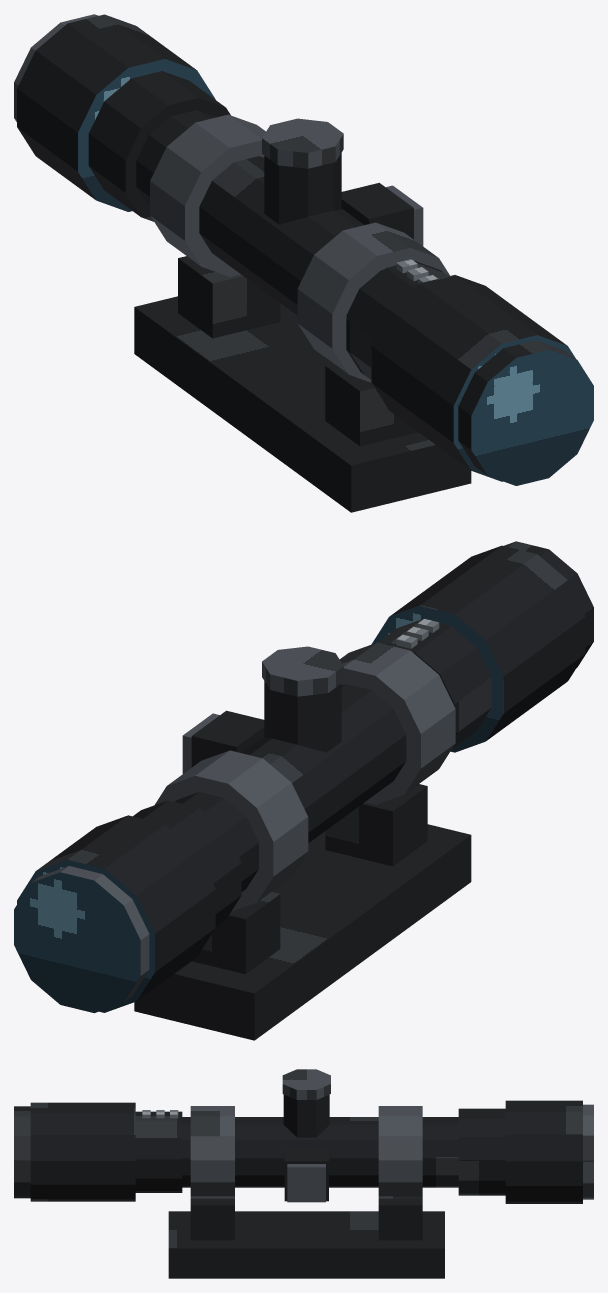
File: att_scope_4x.glb
3 views of the same model, one above another, from view 1: azimuth 30°, elevation 25°; view 2: azimuth 150°, elevation 25°; view 3: azimuth 270°, elevation 25° (orthographic). The views are drawn at different scales.
Parts seen in each view (by area): view 1: Body; view 2: Body; view 3: Body.
Part boxes in pixels (x1=…): Body: x1=14, y1=14, x2=593, y2=512; Body: x1=14, y1=541, x2=593, y2=1040; Body: x1=14, y1=1069, x2=593, y2=1278.
Bounding box in the file's own units: 0.0464 × 0.072 × 0.21.
Materials: 5 (5 with a texture image).
